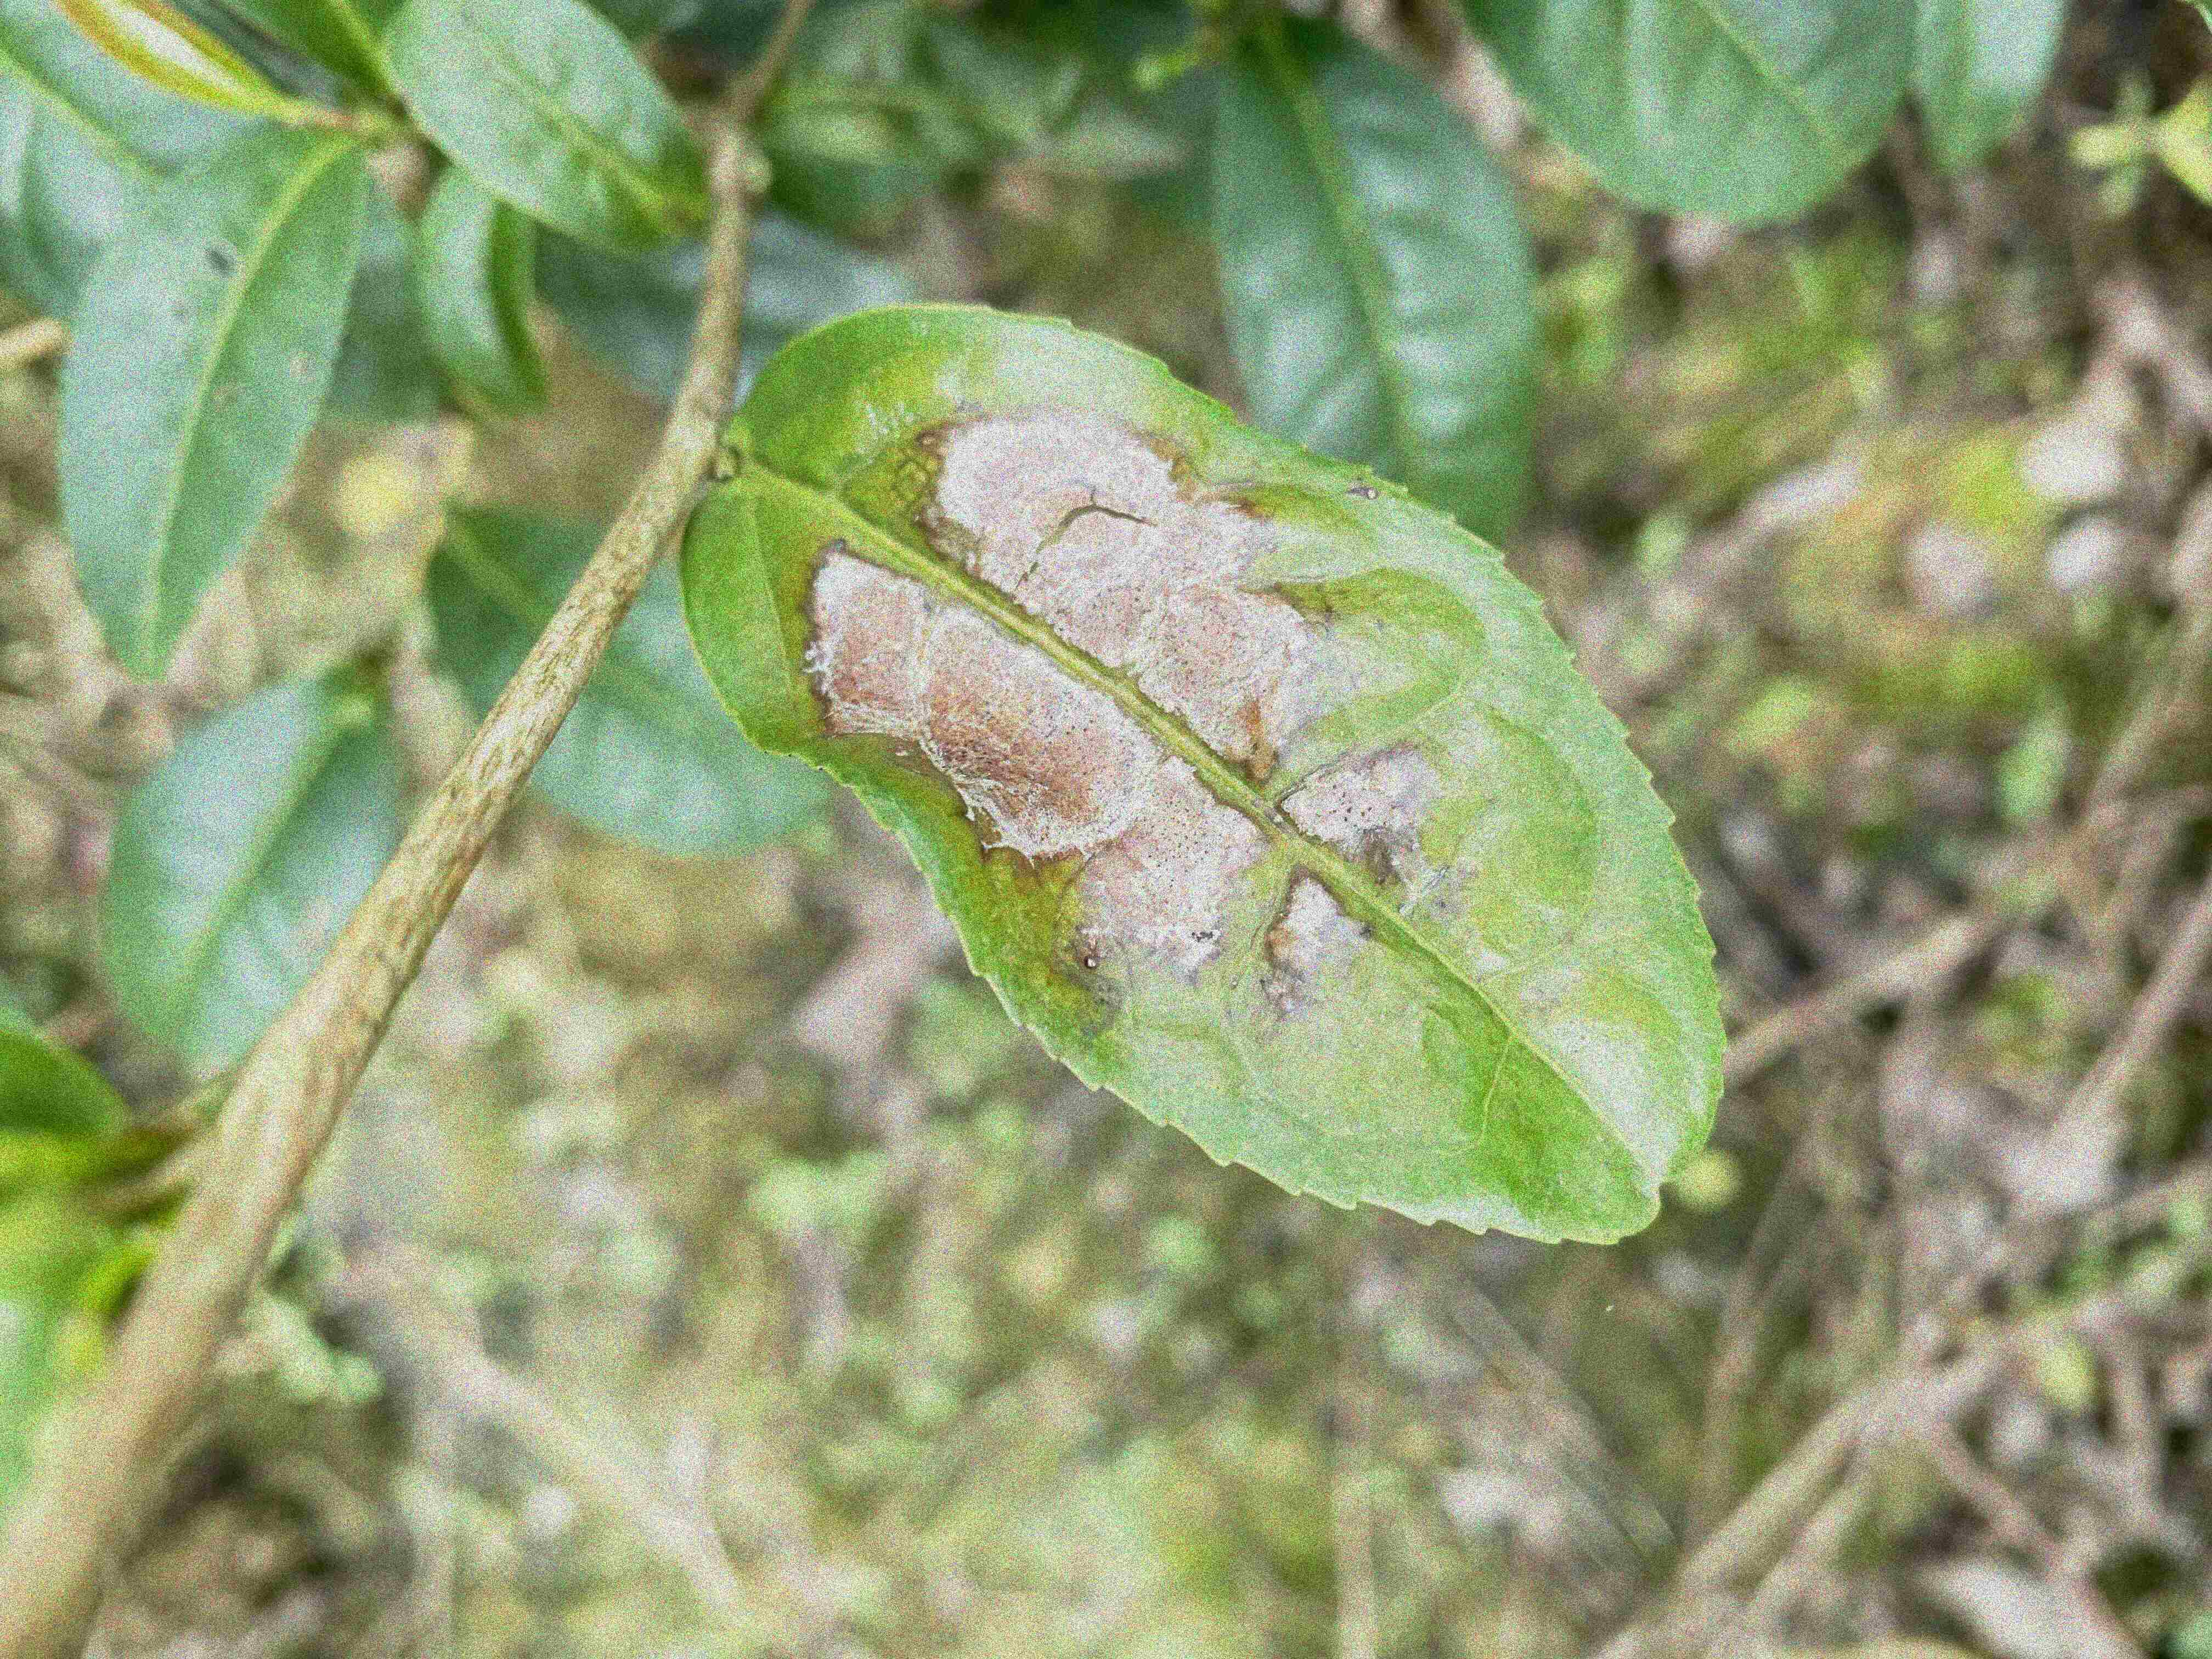chihuo_high: (52, 131, 373, 687)
tanju_high: (674, 307, 1728, 1244)
